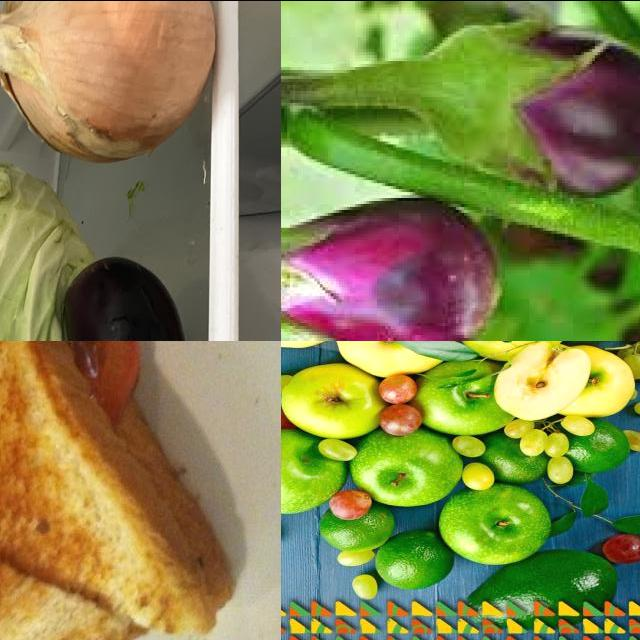cabbage: (1, 155, 107, 341)
eggplant: (416, 26, 640, 195), (282, 202, 500, 341), (57, 251, 223, 341)
onion: (1, 1, 224, 164)
